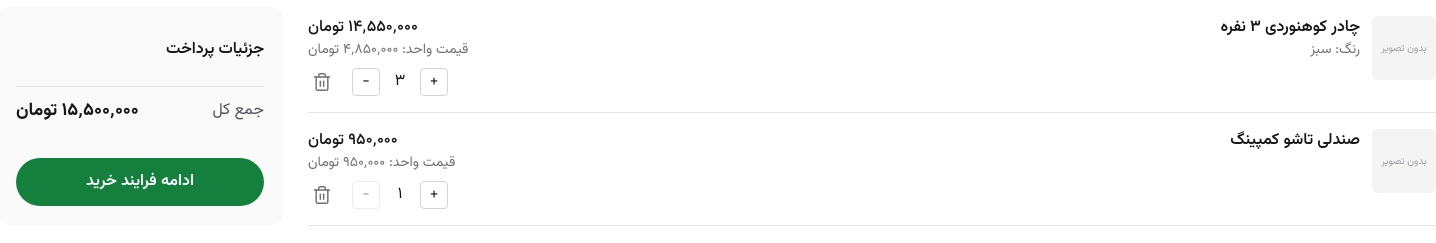
Scenario: CartPageContent › steps quantity up and down, reflecting the backend's returned cart, and disables decrement at quantity 1
This screenshot has width=1436, height=243.
expect the link "چادر کوهنوردی ۳ نفره" is shown: met, box left=1221, top=15, right=1360, bottom=40
Click the button named "افزایش تعداد چادر کوهنوردی ۳ نفره". click: (434,82)
box: left=420, top=68, right=448, bottom=96
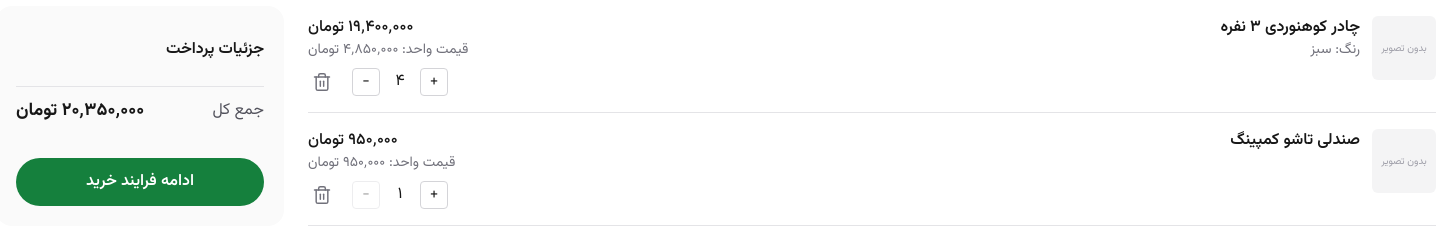
expect the text "۴" is shown: met, box left=395, top=69, right=404, bottom=94
Click the button named "کاهش تعداد چادر کوهنوردی ۳ نفره". click: (366,82)
box: left=352, top=68, right=380, bottom=96
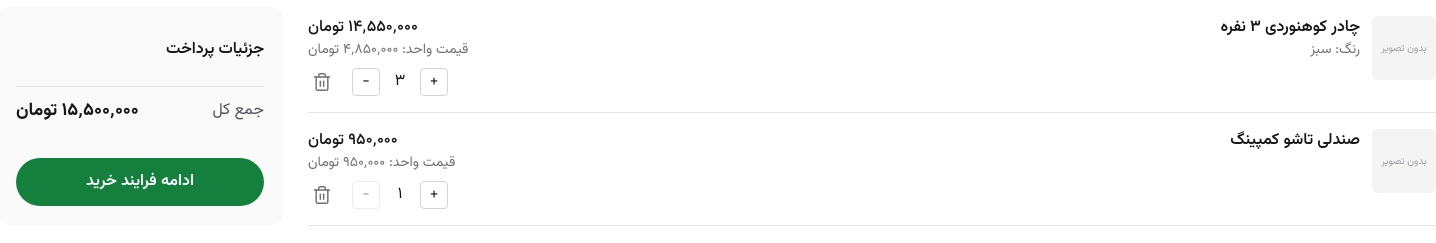
expect the button named "کاهش تعداد صندلی تاشو کمپینگ" is disabled: met, box left=352, top=181, right=380, bottom=209
expect the text "۳" is shown: met, box left=395, top=69, right=405, bottom=94
